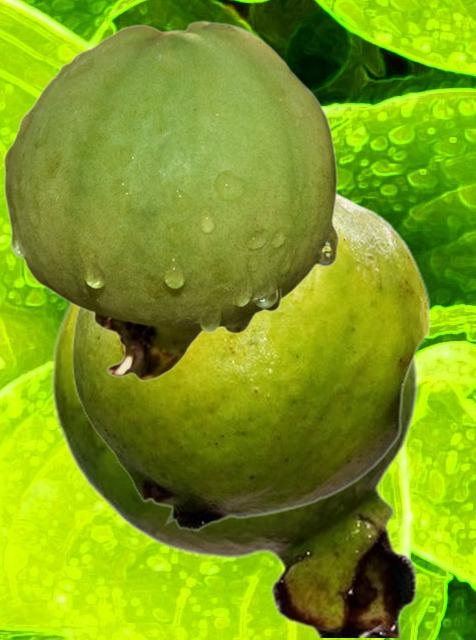guava: (50, 302, 419, 636), (71, 191, 430, 531), (3, 20, 338, 380)
